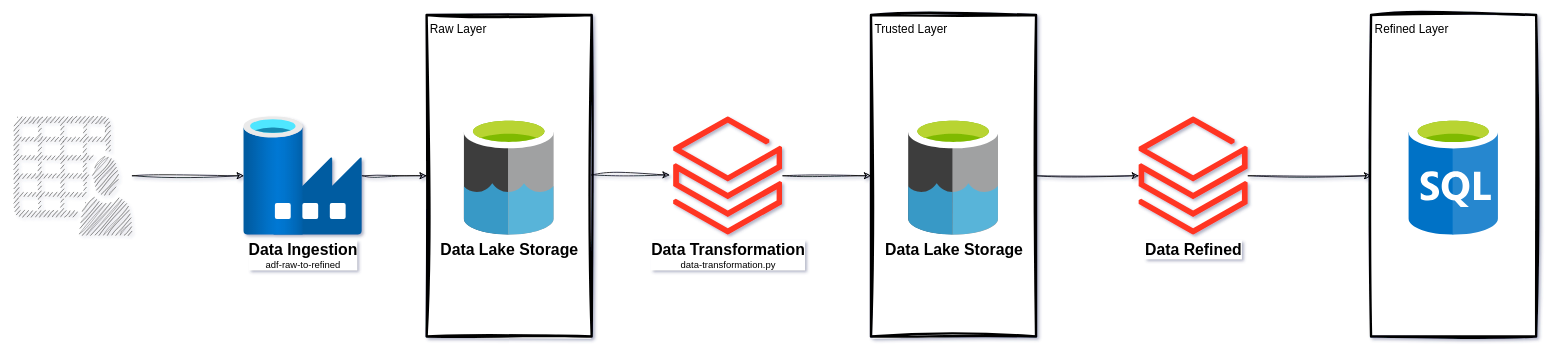
Some shapes in this 1556 by 356 pixel diagram are drawn without their labels. The centre of each missing label's shape, as x and y in pixels:
"Azure SQL" belongs at point (1453, 175).
"Data Source Datasets Olympic Tokyo" belongs at point (72, 175).
